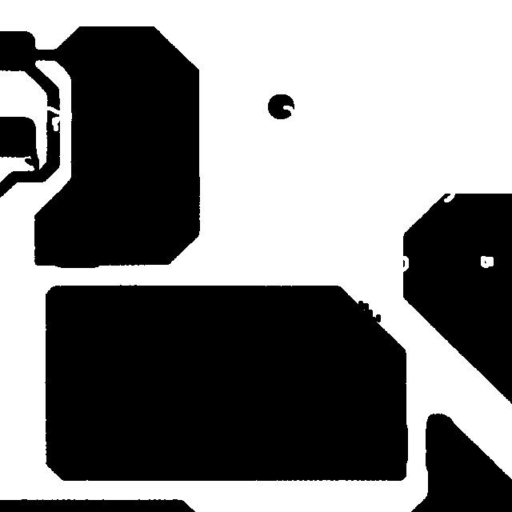mousebite: (275, 98, 304, 126), (393, 248, 416, 279), (436, 183, 462, 210)
open: (34, 98, 72, 138)
pin-hole: (473, 248, 501, 275)
short: (17, 135, 46, 178)
spur: (348, 293, 388, 330)
